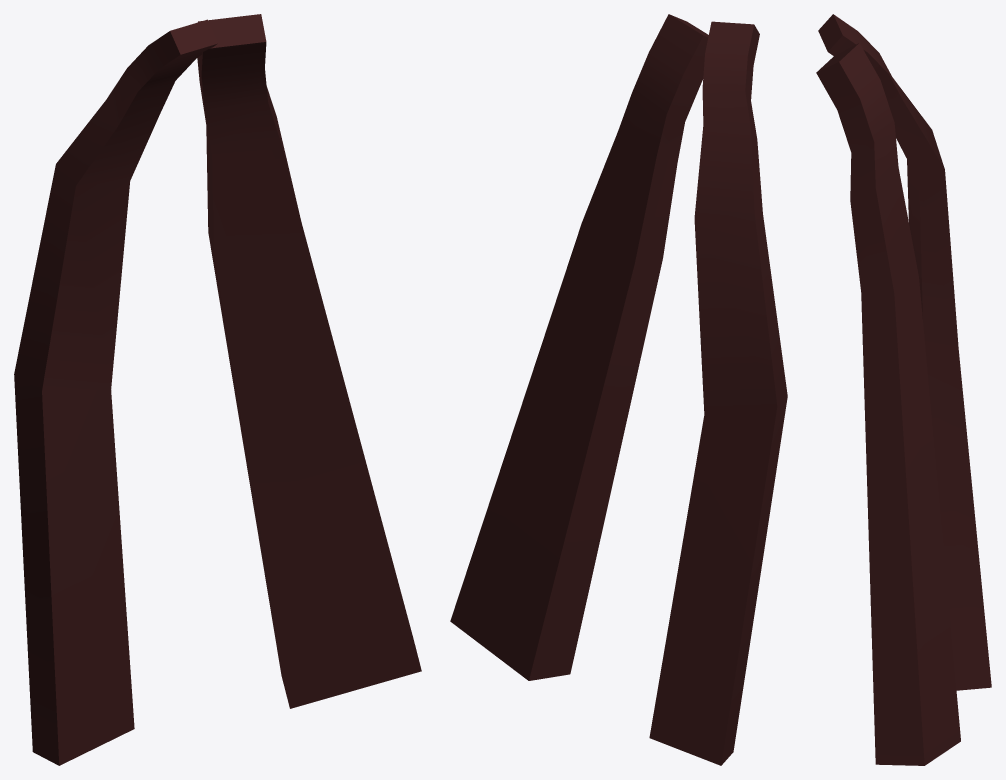
Rendered from ninja_headband_end.fbx.
3 views of the same model, side by side, from view 1: azimuth 30°, elevation 25°; view 2: azimuth 150°, elevation 25°; view 3: azimuth 270°, elevation 25° (orthographic). The views are drawn at different scales.
Parts seen in each view (by area): view 1: headband.002; view 2: headband.002; view 3: headband.002.
Part boxes in pixels (<box>): headband.002: <box>14,14,421,765</box>; headband.002: <box>450,14,787,765</box>; headband.002: <box>816,14,991,765</box>.
Bounding box in the file's own units: 27.07 × 51.73 × 12.2.
